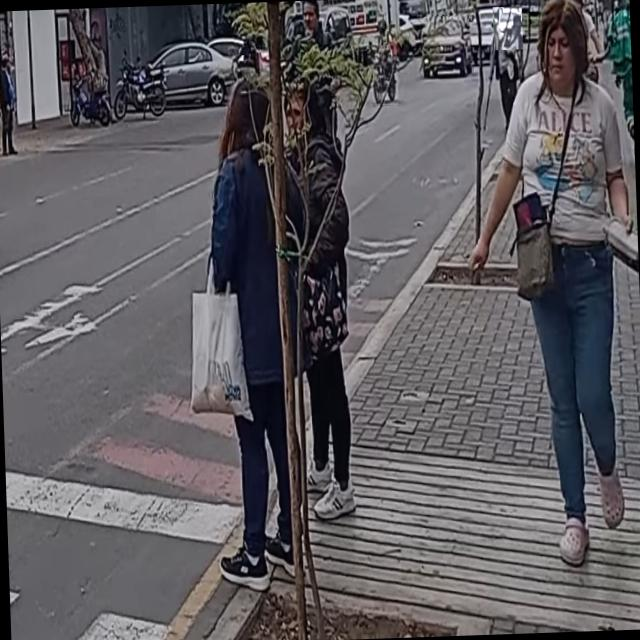bus: (505, 0, 554, 38)
car: (421, 14, 473, 78), (468, 17, 500, 62), (492, 6, 522, 50)
motorcycle: (366, 44, 399, 106)
